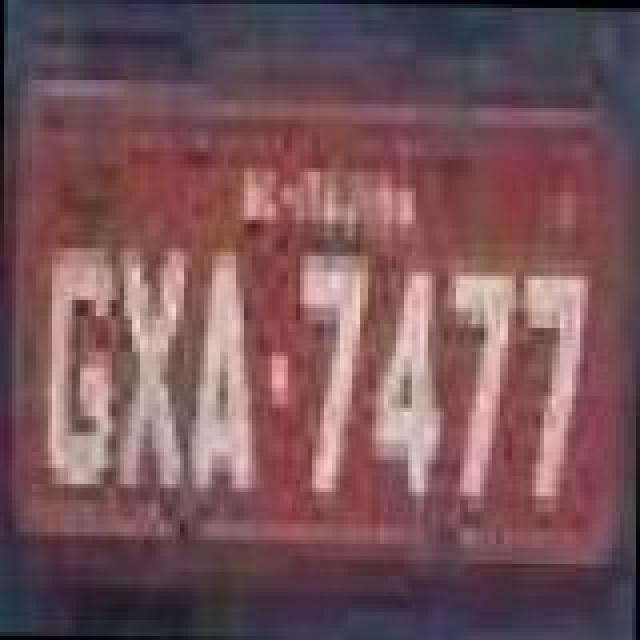4: (368, 262, 448, 498)
7: (296, 244, 376, 496), (438, 262, 518, 498), (522, 278, 594, 514)
A: (184, 242, 264, 494)
G: (44, 254, 116, 490)
X: (118, 248, 186, 500)
